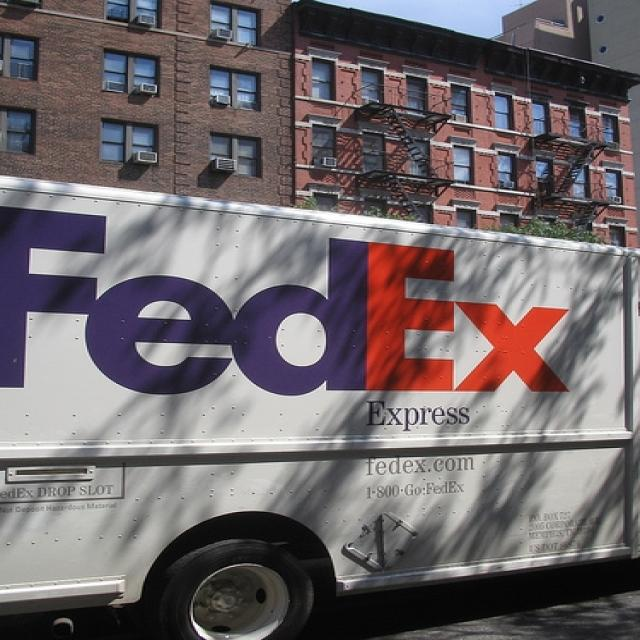fedex: (3, 193, 592, 404)
